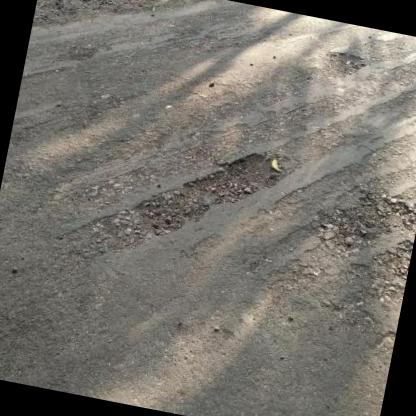pothole: (130, 128, 296, 260), (310, 178, 416, 266), (368, 232, 414, 282), (320, 44, 370, 86)
